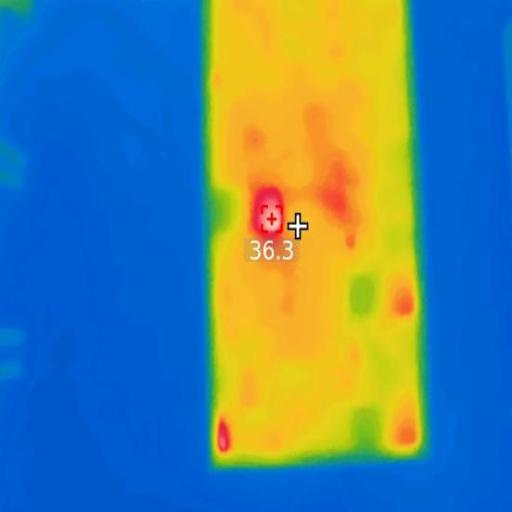hotspot: (249, 186, 285, 245), (215, 422, 230, 452)
